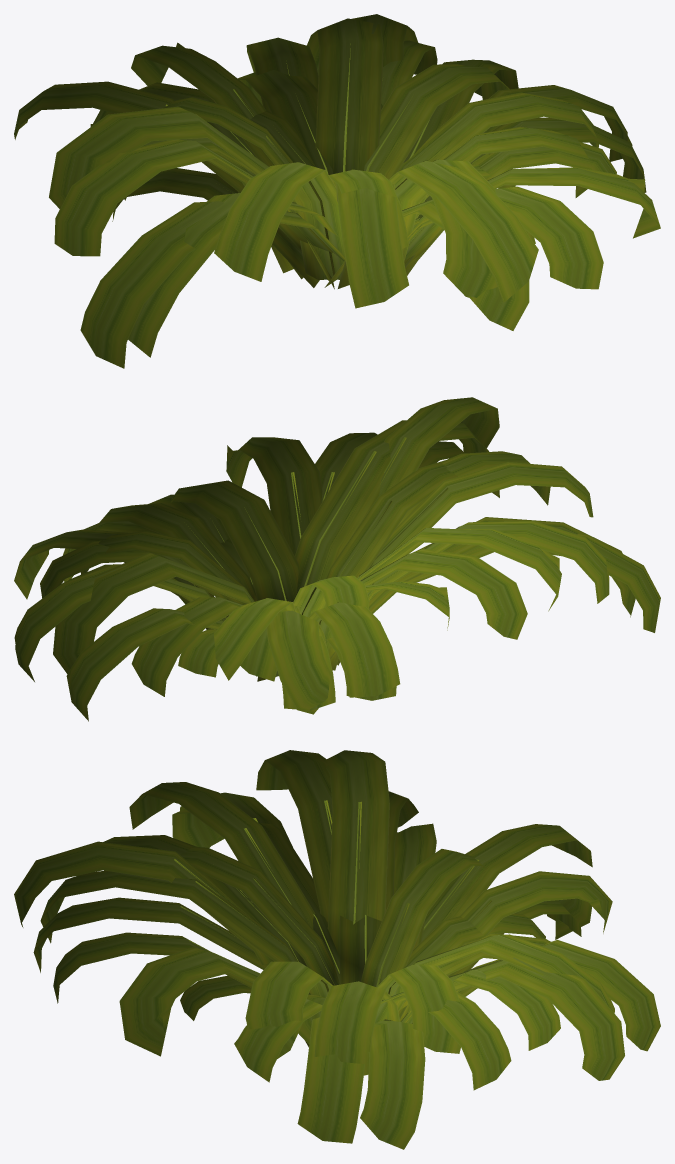
The model's file is plant4.obj.
3 views of the same model, one above another, from view 1: azimuth 30°, elevation 25°; view 2: azimuth 150°, elevation 25°; view 3: azimuth 270°, elevation 25° (orthographic). The views are drawn at different scales.
Parts seen in each view (by area): view 1: tree; view 2: tree; view 3: tree.
Boxes of the visible parts, <box> form: tree: <box>14,14,660,368</box>; tree: <box>14,397,660,721</box>; tree: <box>14,750,660,1149</box>.
Bounding box in the file's own units: 198 × 61.18 × 195.
1 material, 1 textured.
